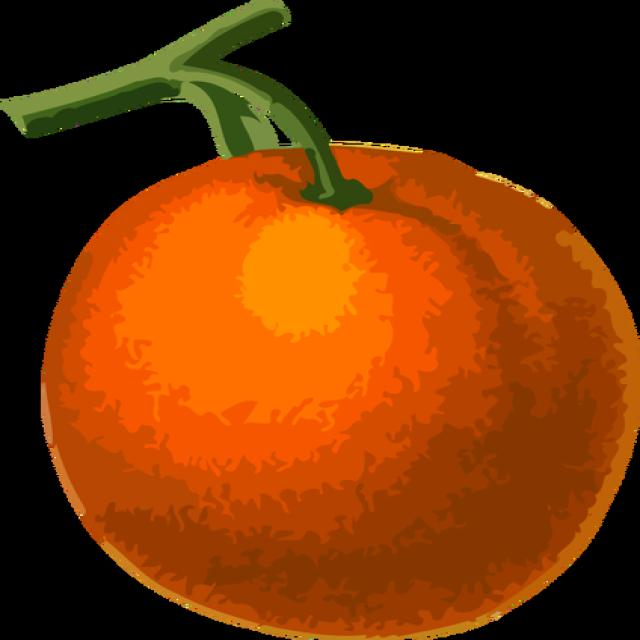orange: (27, 112, 640, 638)
